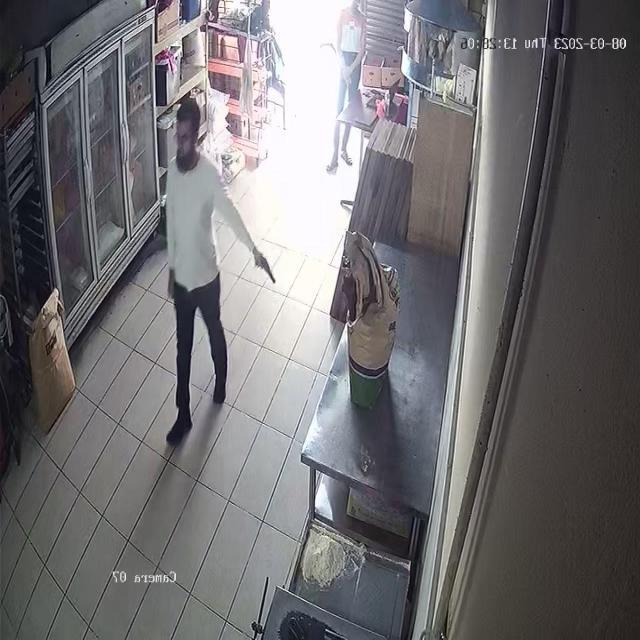Gun: (245, 235, 278, 297)
